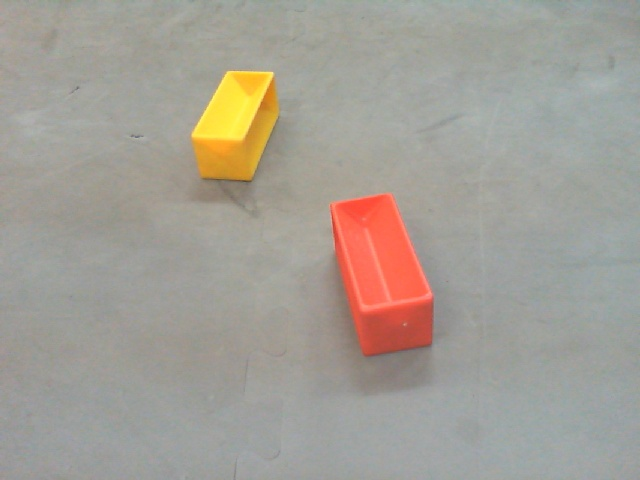RedSample: (328, 191, 437, 355)
YellowSample: (189, 68, 281, 186)
